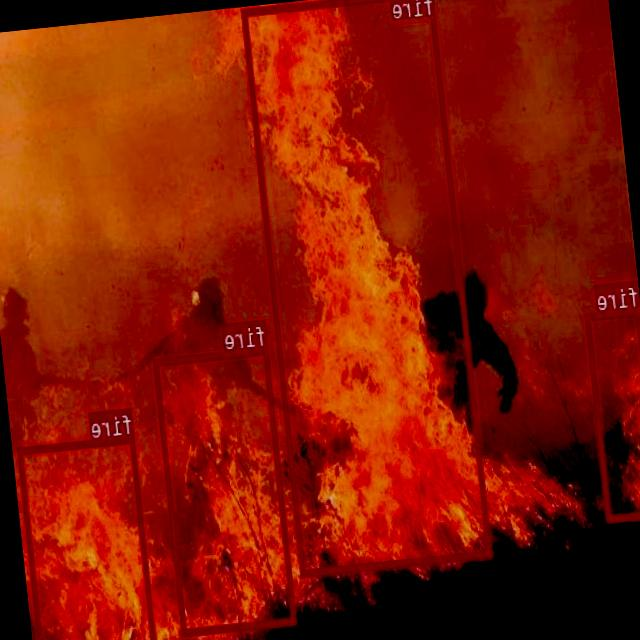fire: (242, 0, 493, 575), (153, 345, 297, 635), (17, 434, 157, 640), (585, 305, 640, 520)
